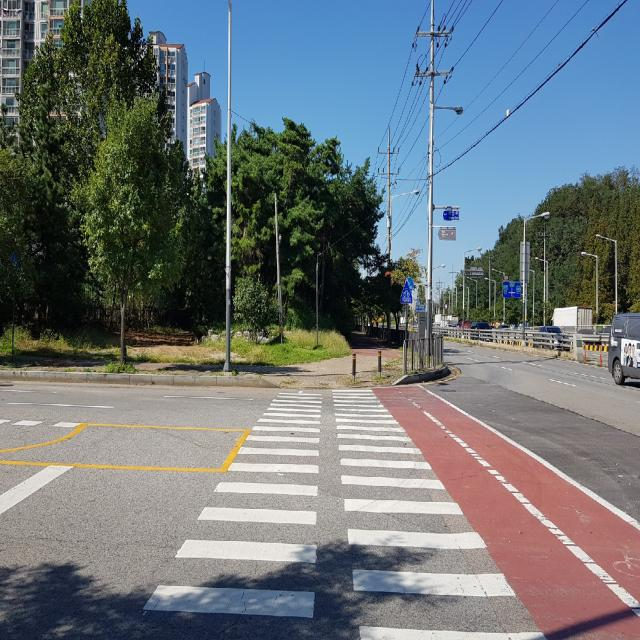횡단보도: (141, 383, 551, 640)
